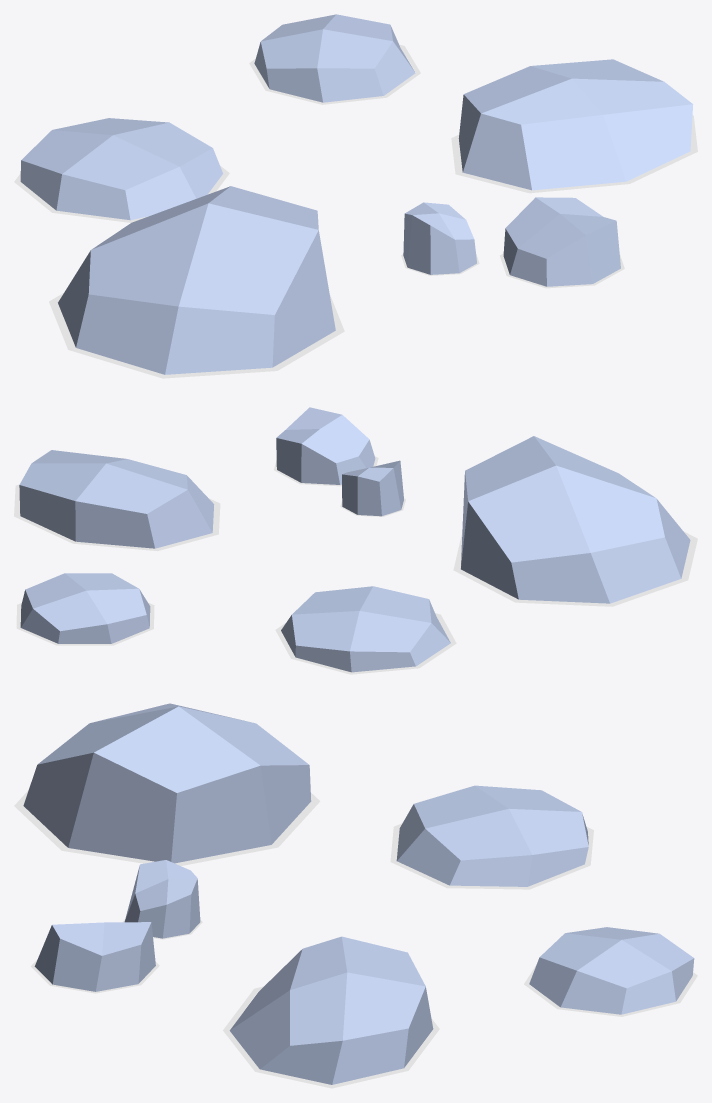
Rendered from GlaciersOnWater.fbx.
3 views of the same model, one above another, from view 1: azimuth 30°, elevation 25°; view 2: azimuth 150°, elevation 25°; view 3: azimuth 270°, elevation 25° (orthographic). The views are drawn at different scales.
Parts seen in each view (by area): view 1: GlaciersOnWater; view 2: GlaciersOnWater; view 3: GlaciersOnWater.
Boxes of the visible parts, left/top/right/bottom form: GlaciersOnWater: left=14, top=14, right=697, bottom=378; GlaciersOnWater: left=14, top=407, right=697, bottom=674; GlaciersOnWater: left=14, top=703, right=697, bottom=1088.
Bounding box in the file's own units: 0.8492 × 0.1204 × 0.7027.
